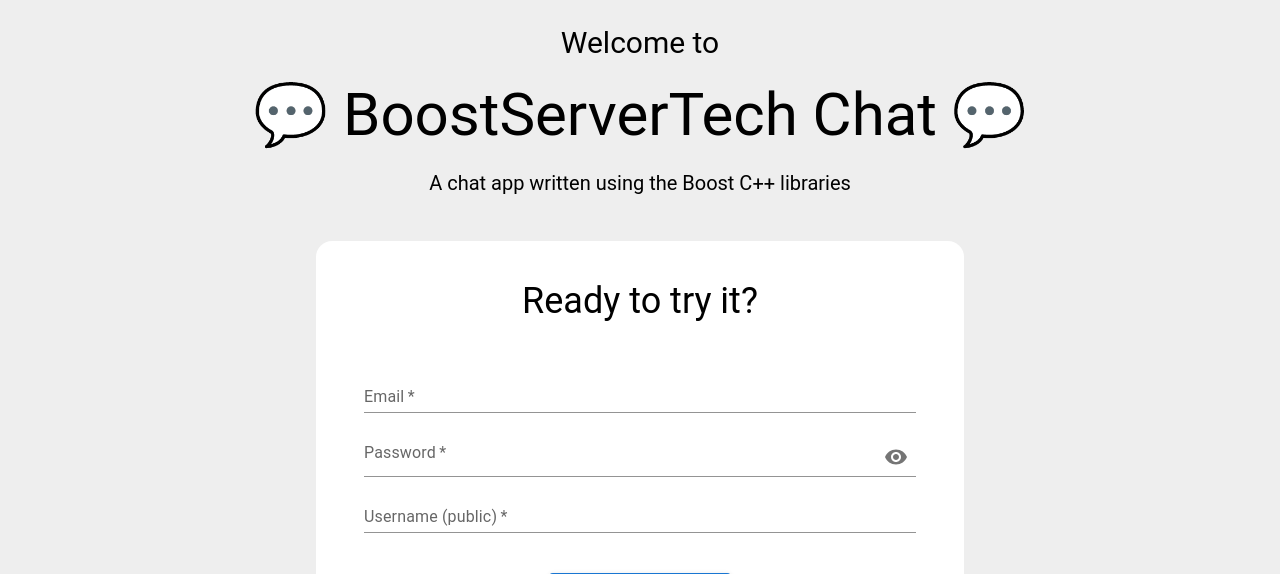
Test: CreateAccountPage page › Create account failure: USERNAME_EXISTS
The width and height of the screenshot is (1280, 574).
# Fill in the form and hit submit
Type "test@test.com" into the field labelled "Email". click: (640, 397)
box: [364,381,916,413]
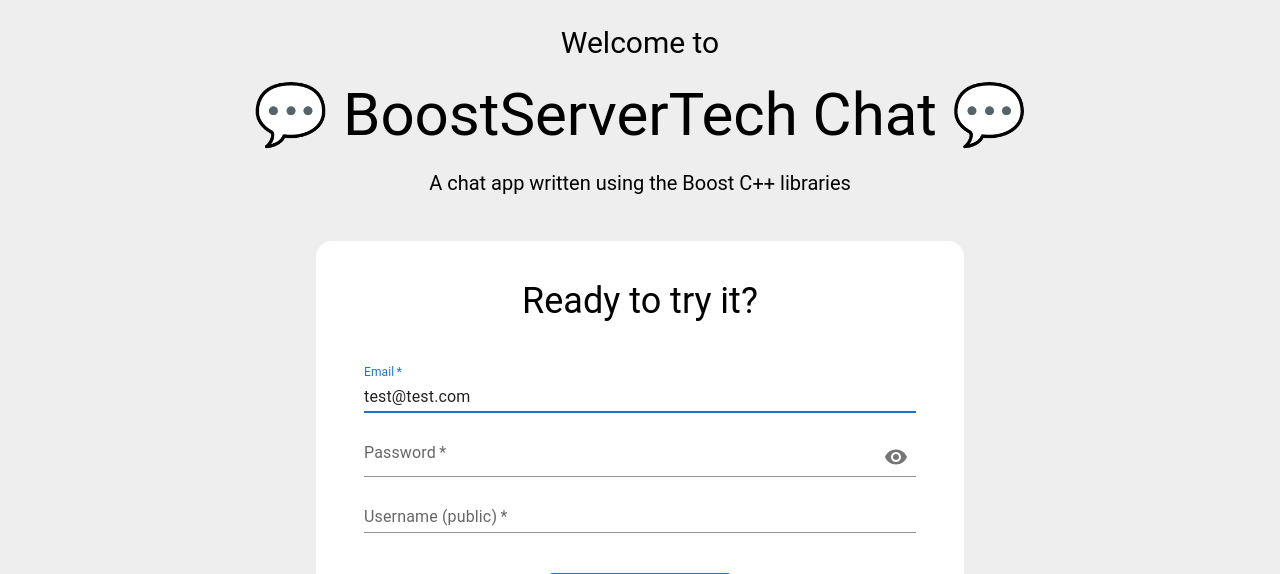
Type "Useruser10!" into the password field labelled "Password". click: (620, 457)
box: [364,441,876,473]
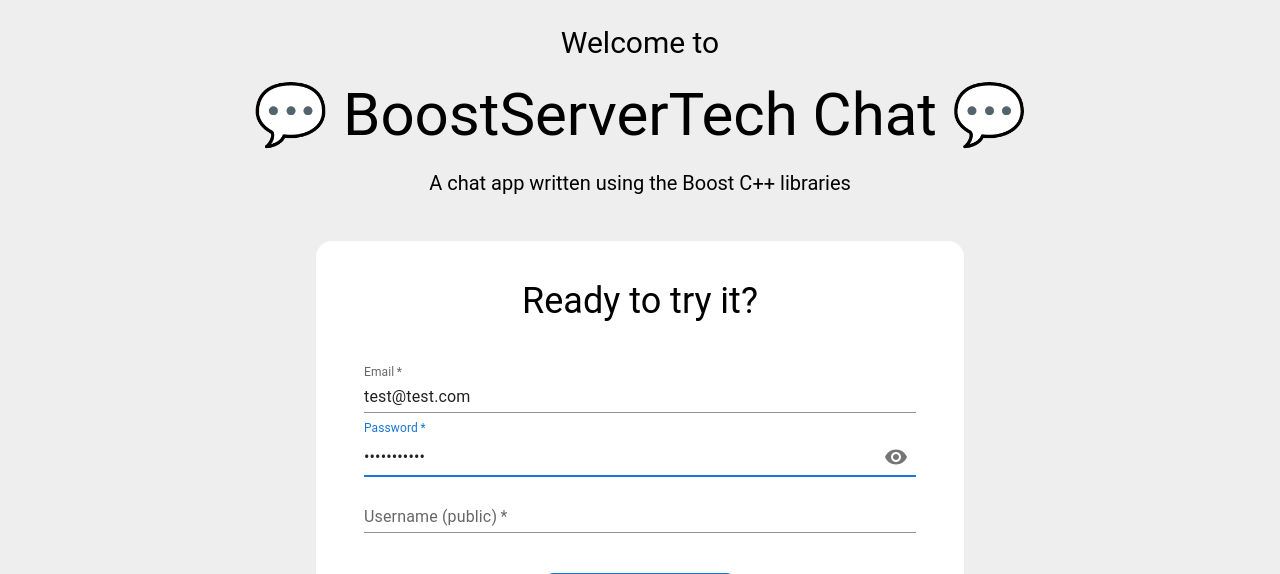
Type "somenickname" into the field labelled "Username". click: (640, 517)
box: [364,501,916,533]
(page scrolled)
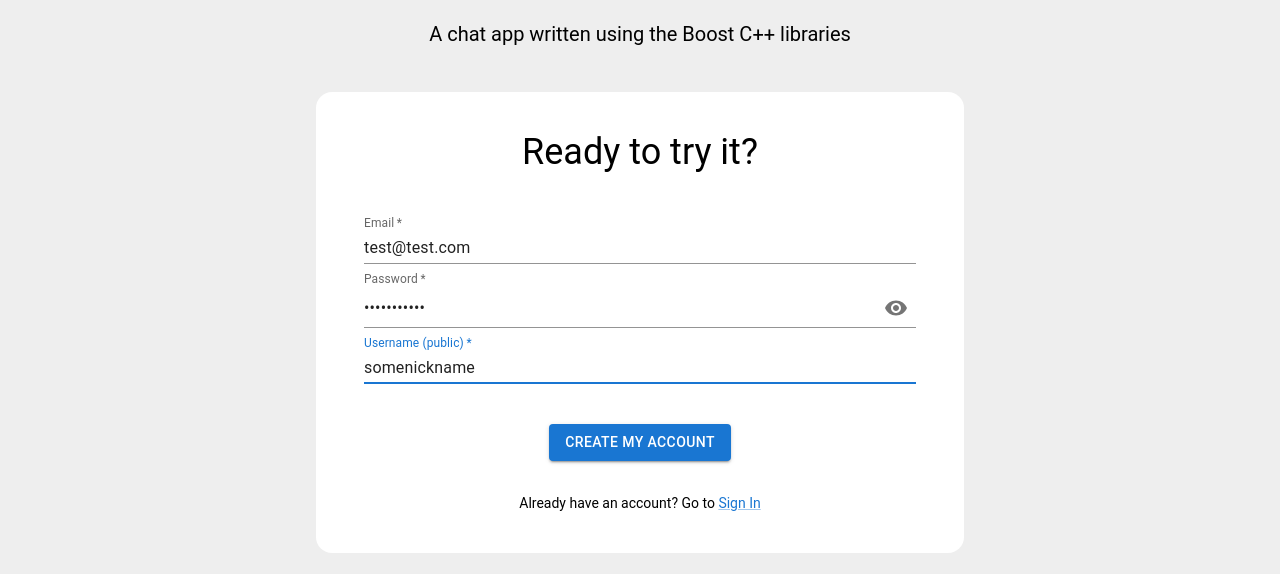
Click the button "Create my account". click: (640, 442)
box: [549,424,731,460]
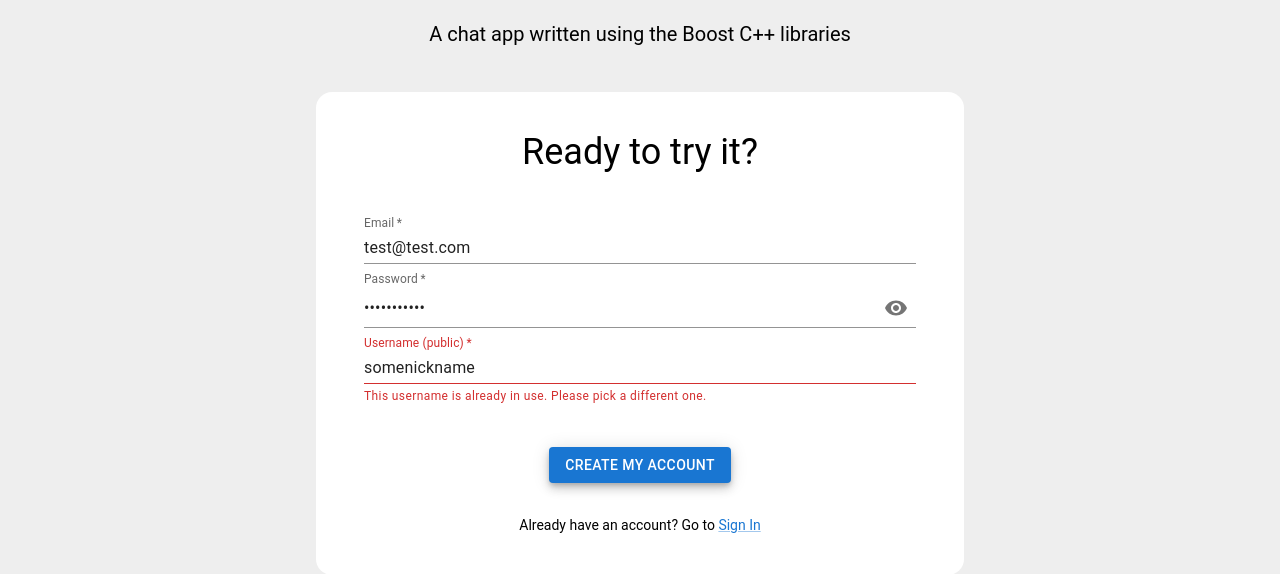
Now the text "This username is already in use. Please pick a different one." is shown, box [364,389,707,403]
